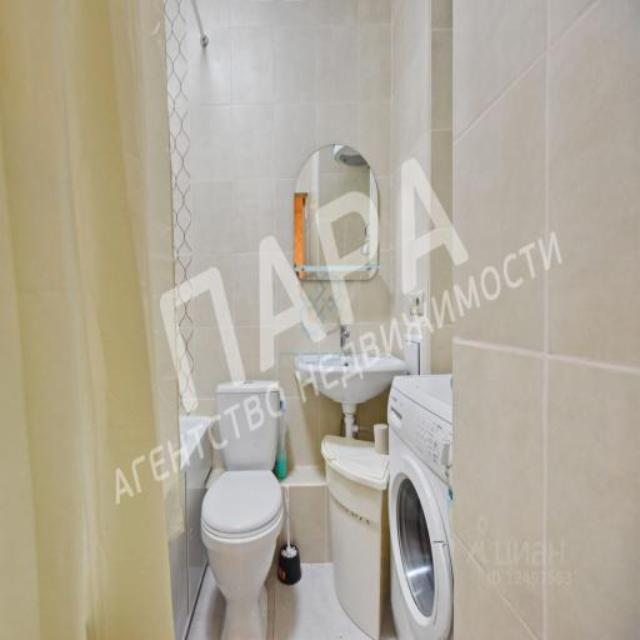Washing-Machine: (389, 374, 486, 638)
